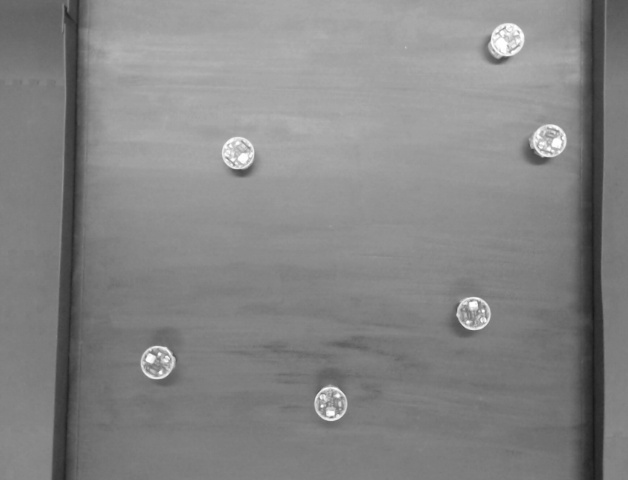epuck_2: (478, 11, 529, 71), (523, 116, 571, 169), (449, 291, 498, 340), (218, 131, 255, 180), (311, 380, 351, 425), (137, 344, 177, 382)
